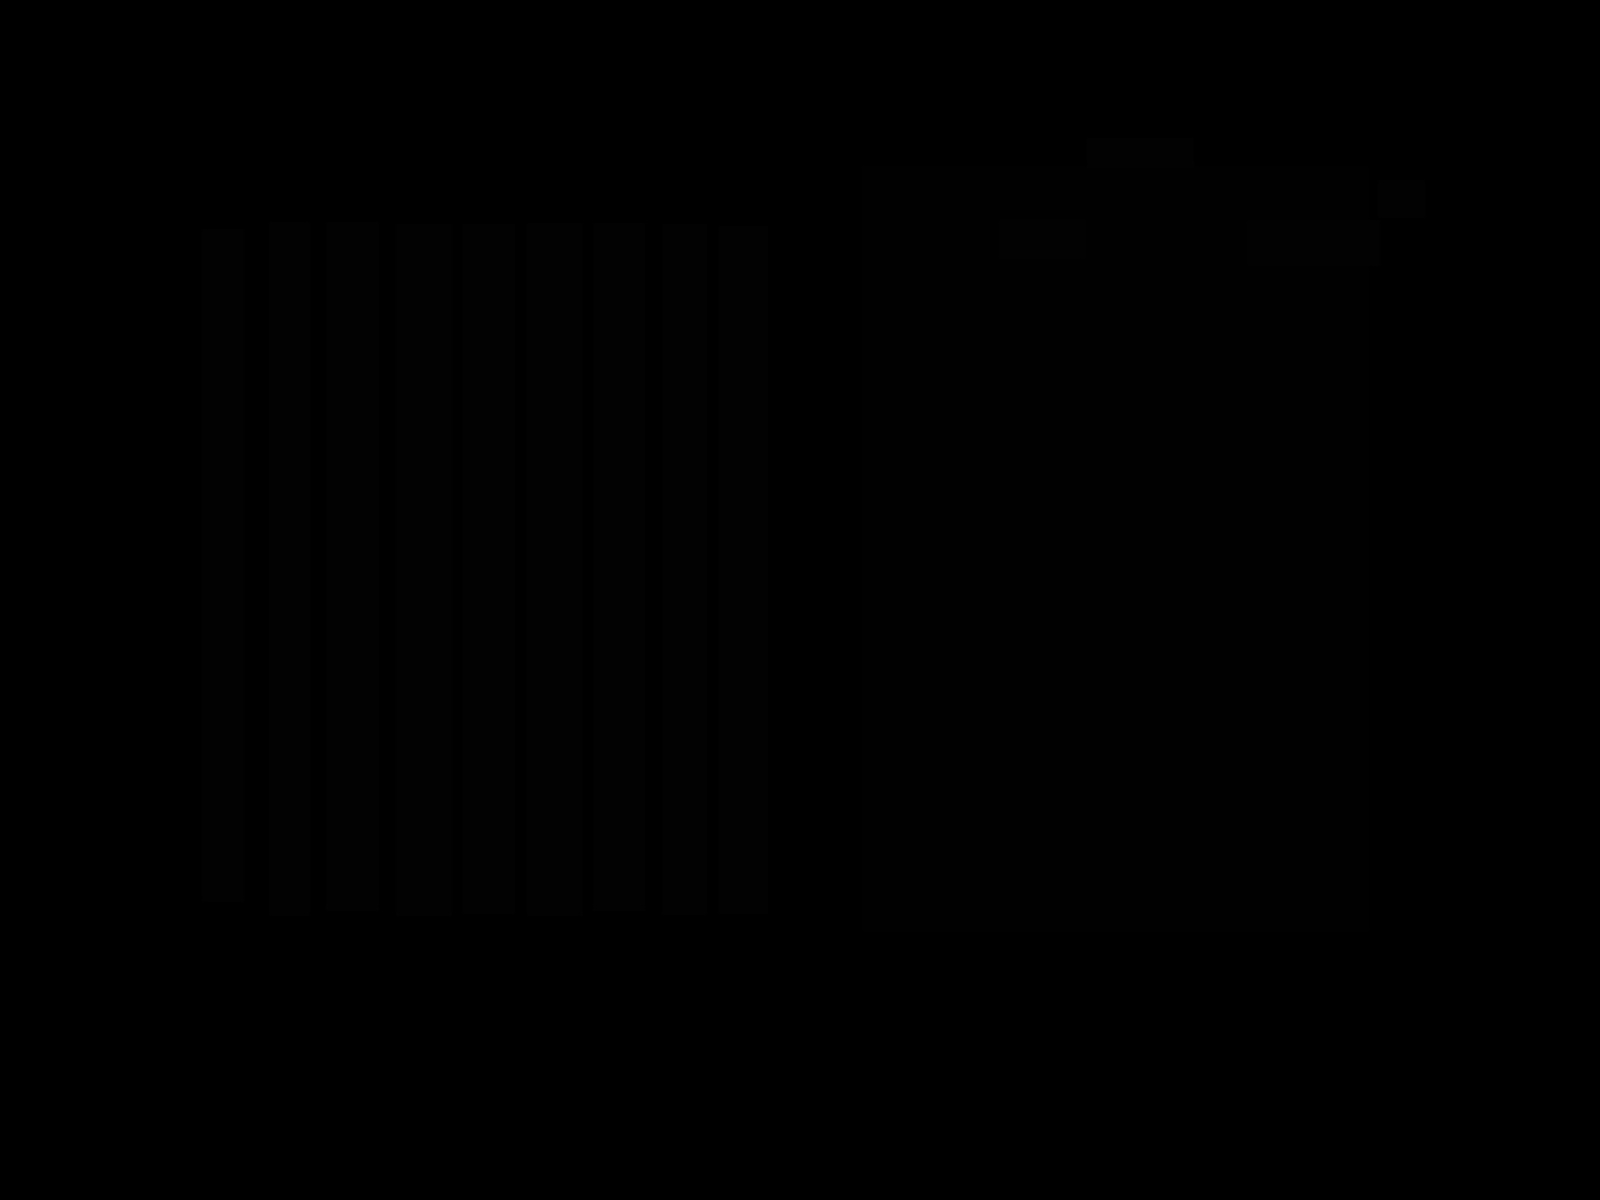1_overall: (89, 52, 1534, 1000)
3_typography: (527, 223, 583, 916), (396, 224, 452, 916), (326, 222, 379, 911), (464, 224, 515, 914), (593, 223, 645, 911), (719, 226, 769, 914), (661, 224, 707, 915), (202, 229, 244, 903), (270, 222, 310, 916), (1247, 221, 1380, 266), (999, 219, 1086, 258), (1087, 137, 1194, 168), (1378, 180, 1425, 218)
4_illustration: (862, 166, 1369, 932)
